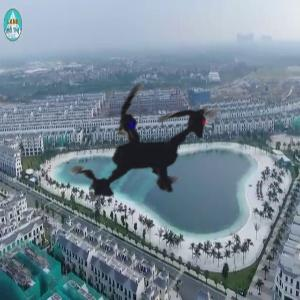drone: (10, 17, 283, 290)
